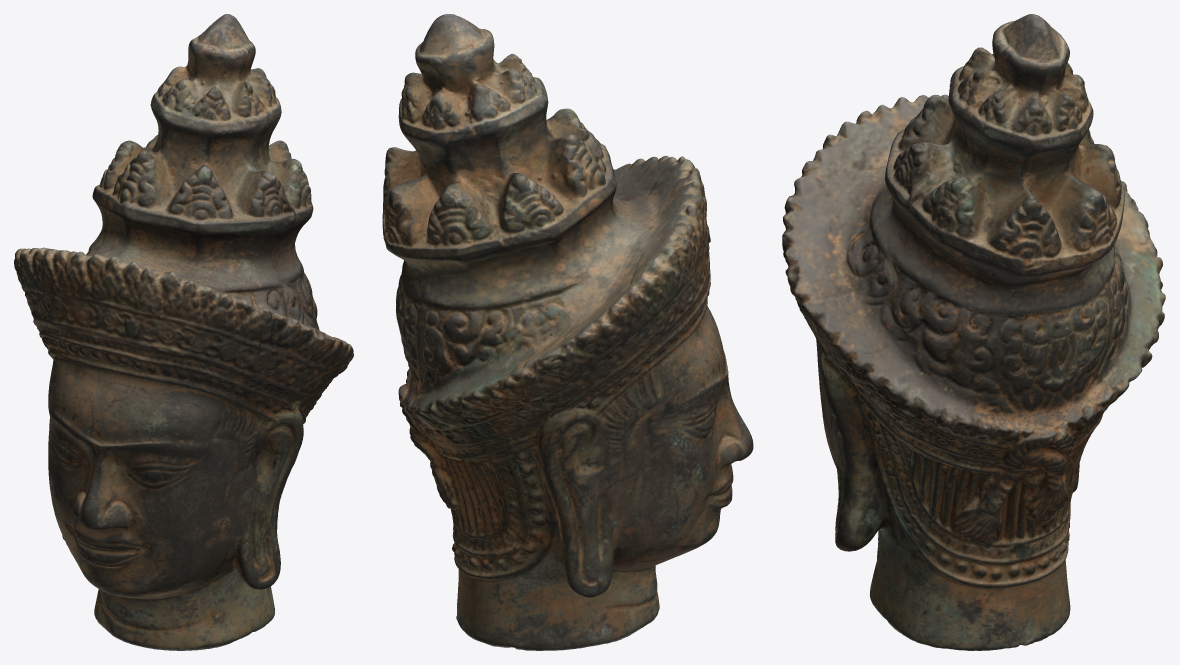
Rendered from khmer_buddha_statue.glb.
3 views of the same model, side by side, from view 1: azimuth 30°, elevation 25°; view 2: azimuth 150°, elevation 25°; view 3: azimuth 270°, elevation 25° (orthographic). The views are drawn at different scales.
Visible parts, largest first — view 1: Object_3, Object_4, Object_2; view 2: Object_2, Object_3, Object_4, Object_5; view 3: Object_2, Object_4, Object_3, Object_5.
Boxes of the visible parts, left/top/right/bottom form: Object_3: left=15, top=147, right=353, bottom=585; Object_4: left=54, top=81, right=353, bottom=650; Object_2: left=14, top=14, right=352, bottom=629; Object_2: left=386, top=14, right=697, bottom=635; Object_3: left=399, top=108, right=743, bottom=580; Object_4: left=382, top=103, right=753, bottom=650; Object_5: left=411, top=416, right=523, bottom=649; Object_2: left=843, top=14, right=1165, bottom=650; Object_4: left=782, top=69, right=1164, bottom=650; Object_3: left=793, top=94, right=1165, bottom=547; Object_5: left=901, top=371, right=1095, bottom=629.
Size of the model in its own units: 0.8583 by 1.67 by 0.908.
1 material, 1 textured.
